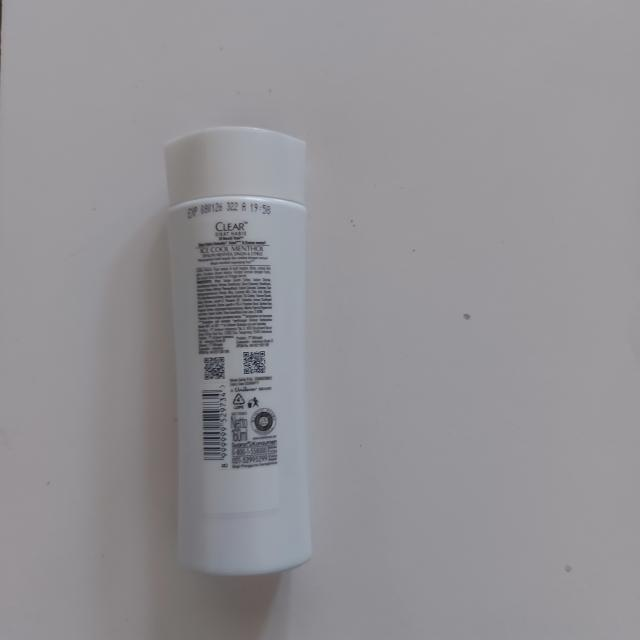Anorganik: (161, 132, 316, 579)
